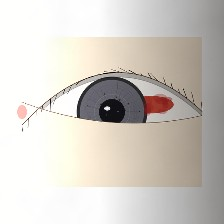hemorrhage_spot: (120, 80, 182, 129)
